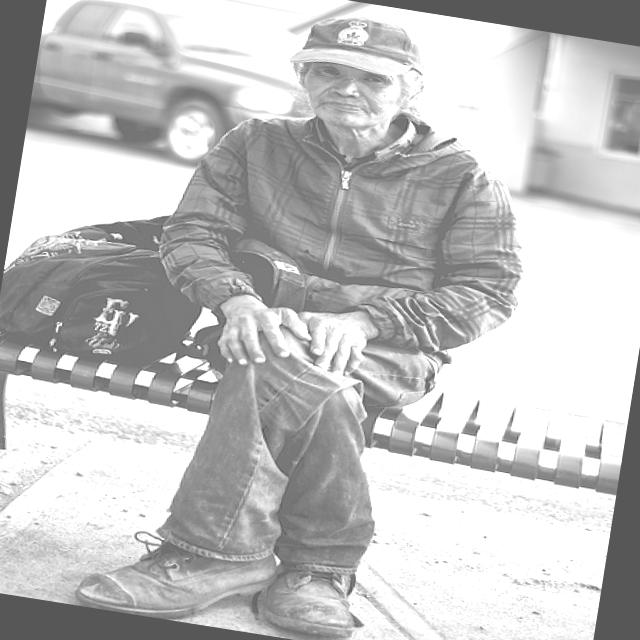Vehicle: (24, 0, 325, 182)
